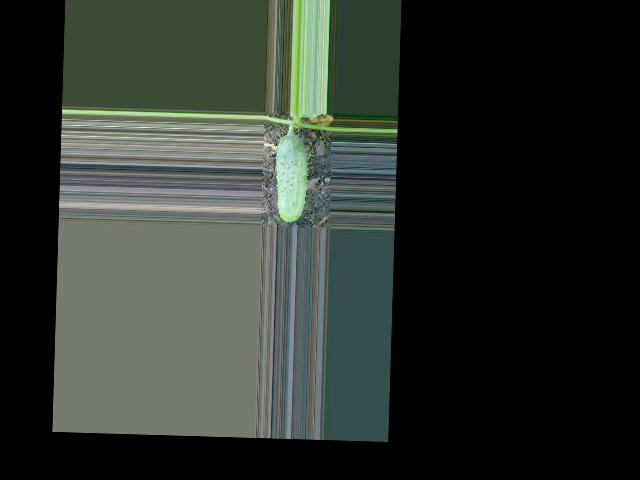cucumber: (273, 134, 308, 223)
